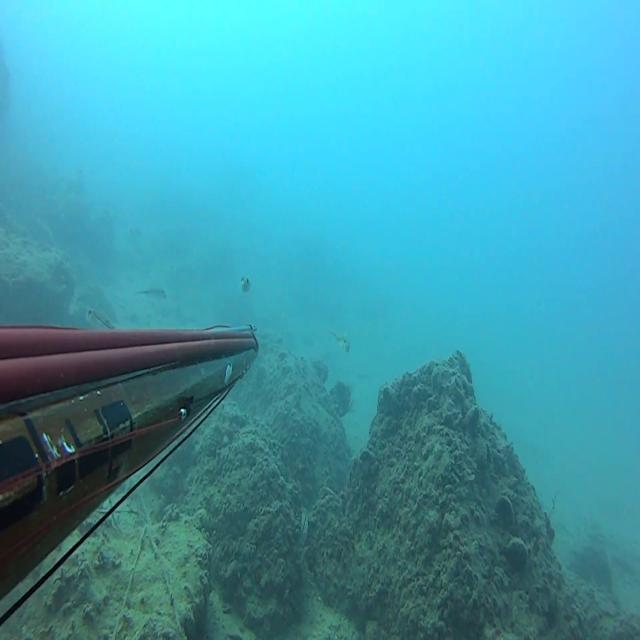Balon Baligi: (88, 308, 116, 331), (329, 330, 351, 353), (135, 288, 166, 302), (241, 277, 252, 292)
